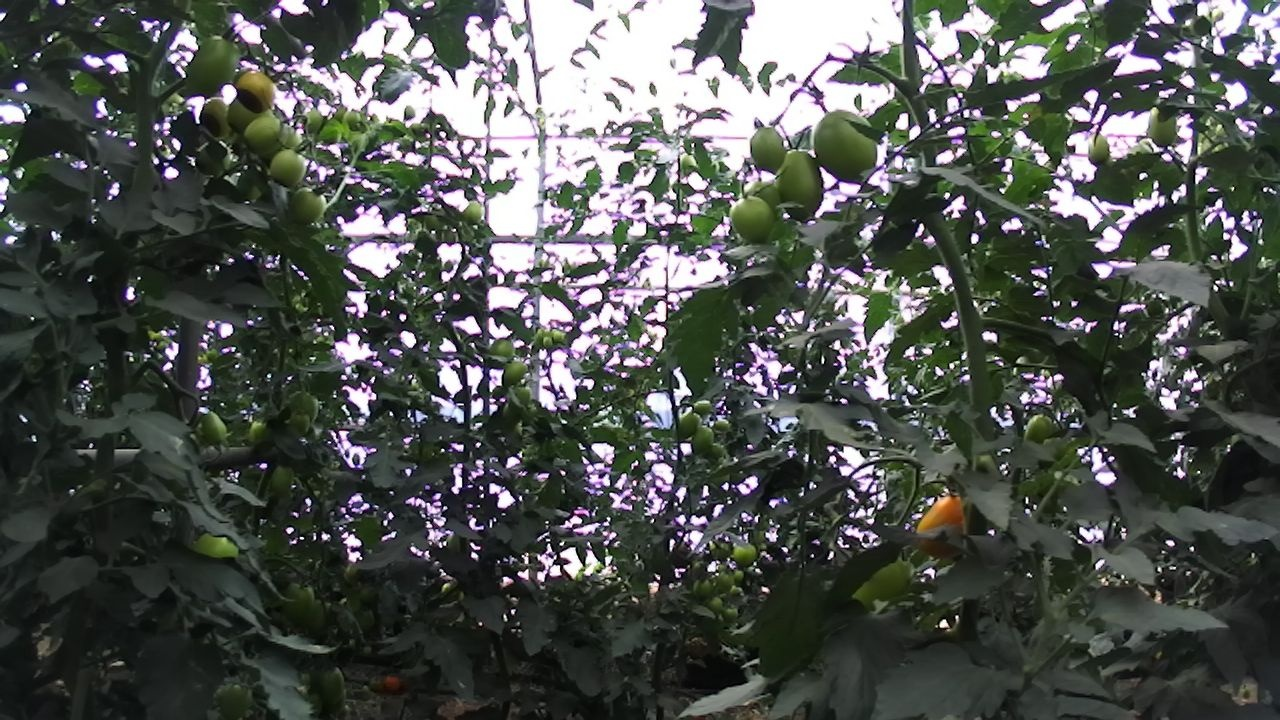tomato: (802, 99, 898, 196), (761, 132, 840, 238), (904, 475, 986, 565), (176, 25, 250, 104), (856, 537, 927, 613), (717, 183, 789, 256), (739, 112, 801, 186), (1135, 88, 1190, 160), (219, 86, 285, 143), (228, 66, 288, 126), (282, 174, 338, 238), (235, 109, 300, 163), (261, 136, 318, 197), (206, 669, 271, 720), (301, 654, 355, 712), (1075, 118, 1126, 178), (188, 400, 239, 459), (191, 93, 242, 147), (276, 575, 324, 631), (1018, 401, 1062, 462), (186, 134, 239, 184), (283, 380, 325, 431), (482, 331, 521, 376), (263, 455, 300, 502), (493, 351, 533, 393), (243, 412, 282, 451), (670, 405, 710, 443), (457, 195, 492, 232), (686, 422, 720, 460), (729, 535, 760, 570), (298, 103, 328, 137), (286, 405, 315, 439), (688, 391, 720, 421), (339, 105, 369, 135), (378, 669, 406, 697), (712, 567, 738, 597), (675, 149, 701, 178), (691, 574, 715, 604), (398, 100, 420, 126), (718, 601, 741, 625), (709, 414, 734, 435), (704, 593, 726, 616), (728, 565, 748, 587), (539, 332, 556, 351), (550, 327, 565, 345)
